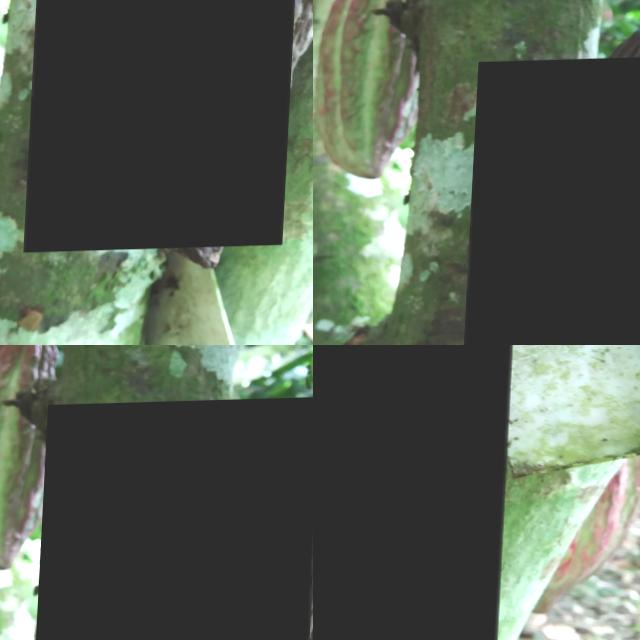Monilia: (31, 399, 313, 640), (313, 345, 519, 640)
Sana: (29, 0, 304, 253), (467, 58, 640, 345)
